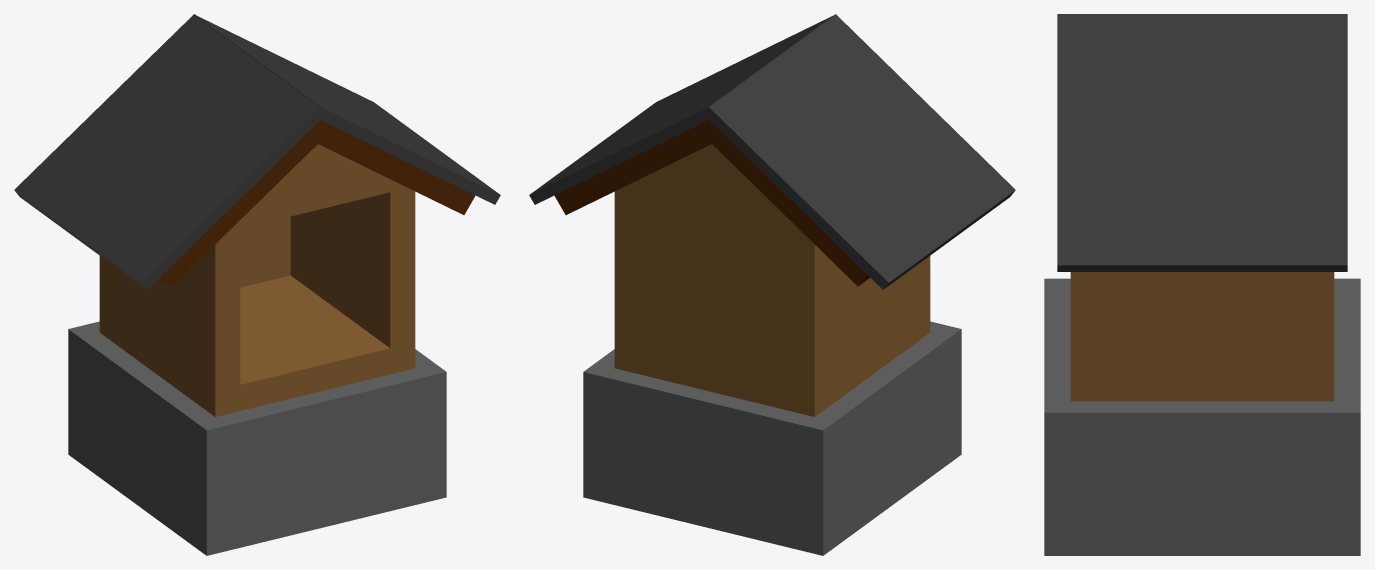
The picture shows the model from 3 angles, left to right: view 1: azimuth 30°, elevation 25°; view 2: azimuth 150°, elevation 25°; view 3: azimuth 270°, elevation 25°; orthographic projection. The views are drawn at different scales.
Visible parts, largest first — view 1: Cube, 立方体, 立方体.001, 立方体.002, 立方体.003, 立方体.004, 立方体.009; view 2: Cube, 立方体, 立方体.001, 立方体.002, 立方体.008, 立方体.007, 立方体.009; view 3: 立方体.002, Cube, 立方体, 立方体.001.
Boxes of the visible parts, x1,y1,x2,y2 form: Cube: (68, 321, 446, 555); 立方体: (99, 172, 415, 416); 立方体.001: (14, 14, 326, 289); 立方体.002: (193, 14, 500, 204); 立方体.003: (304, 120, 475, 214); 立方体.004: (160, 126, 333, 286); 立方体.009: (260, 144, 375, 200); Cube: (583, 321, 961, 555); 立方体: (614, 170, 930, 416); 立方体.001: (703, 14, 1015, 289); 立方体.002: (529, 14, 836, 204); 立方体.008: (554, 121, 721, 214); 立方体.007: (695, 120, 869, 286); 立方体.009: (659, 144, 764, 195); 立方体.002: (1057, 14, 1347, 271); Cube: (1044, 278, 1360, 555); 立方体: (1070, 272, 1334, 401); 立方体.001: (1057, 14, 1347, 15).
Bounding box in the file's own units: 3.6 × 3.97 × 2.4.
